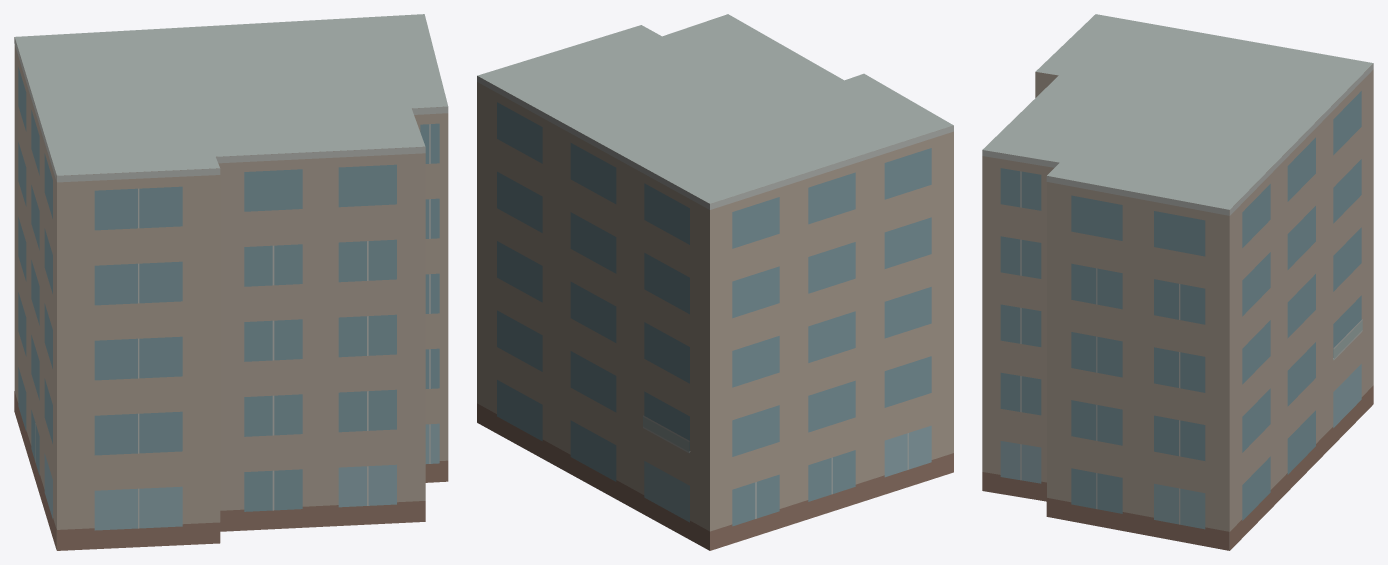
Rendered from survey-upis-32815545.glb.
3 views of the same model, side by side, from view 1: azimuth 30°, elevation 25°; view 2: azimuth 150°, elevation 25°; view 3: azimuth 270°, elevation 25° (orthographic). The views are drawn at different scales.
Parts seen in each view (by area): view 1: survey-upis-32815545.tmp; view 2: survey-upis-32815545.tmp; view 3: survey-upis-32815545.tmp.
Part boxes in pixels (<box>): survey-upis-32815545.tmp: <box>14,14,448,550</box>; survey-upis-32815545.tmp: <box>477,14,953,550</box>; survey-upis-32815545.tmp: <box>982,14,1373,550</box>.
Size of the model in its own units: 16.89 by 13.7 by 14.26.
